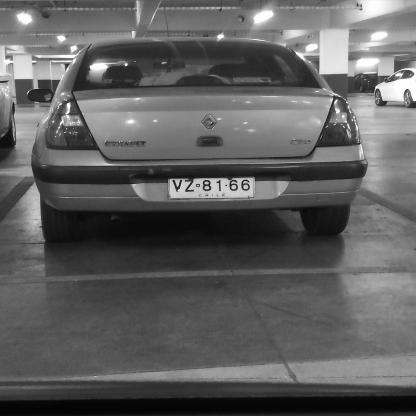Patente: (168, 176, 254, 200)
